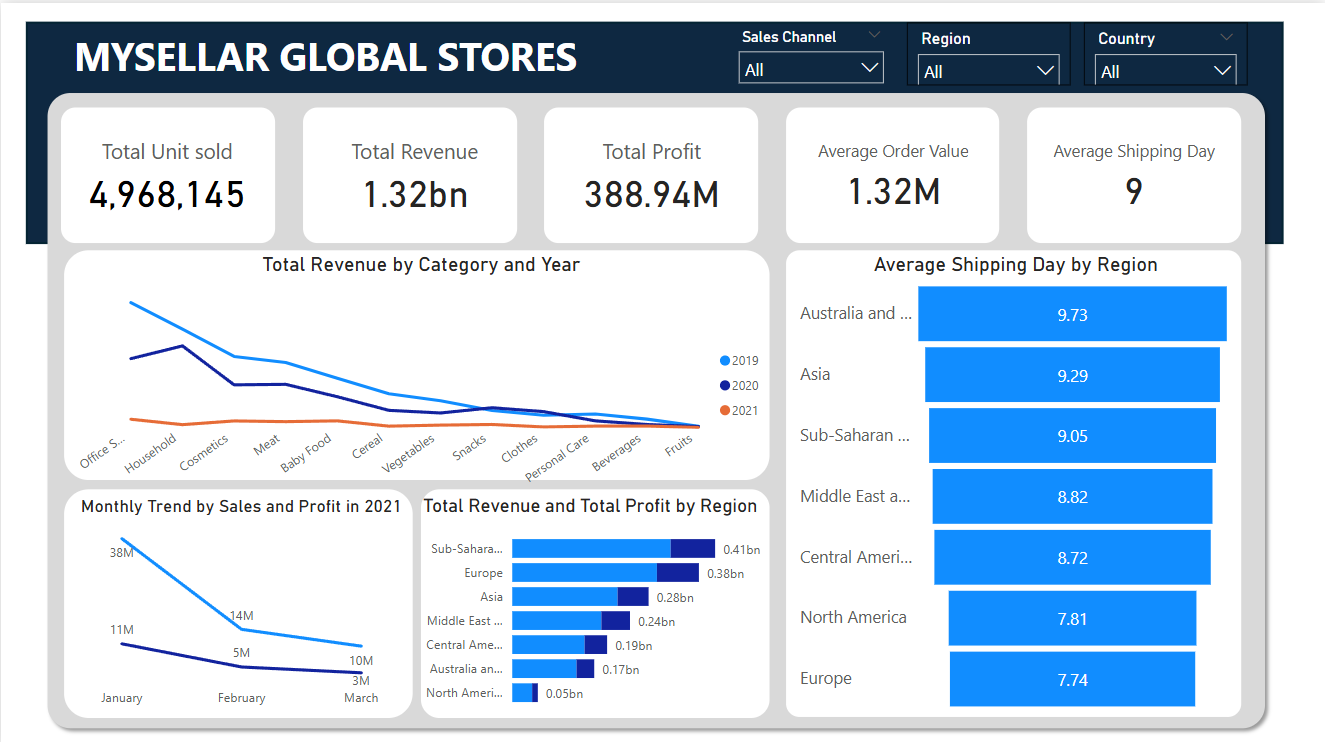

What the dashboard file says about the page in this screenshot:
{"tool":"powerbi","page":{"name":"Page 1","canvas":[1280,720],"ordinal":0},"visuals":[{"type":"cardVisual","fields":{"Data":["Key Measures.Total Unit sold"]},"box":[65.7,104.3,191.4,125.7],"z":0},{"type":"cardVisual","fields":{"Data":["Key Measures.Revenue"]},"box":[294.3,104.3,211.4,125.7],"z":1000},{"type":"cardVisual","fields":{"Data":["Key Measures.Total Profit"]},"box":[532.9,104.3,191.4,125.7],"z":2000},{"type":"cardVisual","fields":{"Data":["Key Measures.Average Order Value"]},"box":[767.1,104.3,191.4,125.7],"z":3000},{"type":"cardVisual","fields":{"Data":["Key Measures.Average Shipping Day"]},"box":[995.7,104.3,198.6,125.7],"z":4000},{"type":"lineChart","title":"Total Revenue by Category and Year","fields":{"Category":["Orders.Category"],"Y":["Sum(Orders.Total Revenue)"],"Series":["Date.Year"]},"box":[65.7,240,681.4,235.7],"z":5000},{"type":"lineChart","title":"Monthly Trend by Sales and Profit in 2021","fields":{"Y":["Sum(Orders.Total Revenue)","Sum(Orders.Total Profit)"],"Category":["Date.Month_name"]},"box":[65.7,475.7,334.3,214.3],"z":6000},{"type":"barChart","title":"Total Revenue and Total Profit by Region","fields":{"Category":["Orders.Region"],"Y":["Sum(Orders.Total Revenue)","Sum(Orders.Total Profit)"]},"box":[392.9,475.6,353.1,214.7],"z":7000},{"type":"funnel","fields":{"Category":["Orders.Region"],"Y":["Key Measures.Average Shipping Time"]},"box":[766.7,240.2,427.9,450.1],"z":8000},{"type":"textbox","box":[65.2,20.7,520.1,62],"z":9000},{"type":"slicer","fields":{"Values":["Orders.Sales Channel"]},"box":[702.8,18.2,160,60.8],"z":10000},{"type":"slicer","fields":{"Values":["Orders.Country"]},"box":[1047.1,18.2,158,60.8],"z":11000},{"type":"slicer","fields":{"Values":["Orders.Region"]},"box":[875.9,18.2,158,60.8],"z":12000}]}

Visuals, with their boxes in screenshot pixels (x1, y1, x2, y2), scaled from the page's 1280x720 canvas onto the 1325x742 screenshot:
cardVisual - Key Measures.Total Unit sold: 68/107/266/237
cardVisual - Key Measures.Revenue: 305/107/523/237
cardVisual - Key Measures.Total Profit: 552/107/750/237
cardVisual - Key Measures.Average Order Value: 794/107/992/237
cardVisual - Key Measures.Average Shipping Day: 1031/107/1236/237
"Total Revenue by Category and Year" lineChart: 68/247/773/490
"Monthly Trend by Sales and Profit in 2021" lineChart: 68/490/414/711
"Total Revenue and Total Profit by Region" barChart: 407/490/772/711
funnel - Orders.Region x Key Measures.Average Shipping Time: 794/248/1237/711
textbox: 67/21/606/85
slicer - Orders.Sales Channel: 728/19/893/81
slicer - Orders.Country: 1084/19/1247/81
slicer - Orders.Region: 907/19/1070/81
